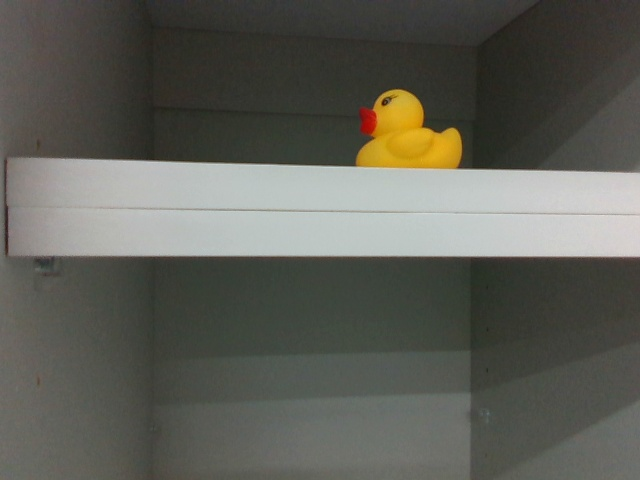duck: (350, 84, 463, 172)
